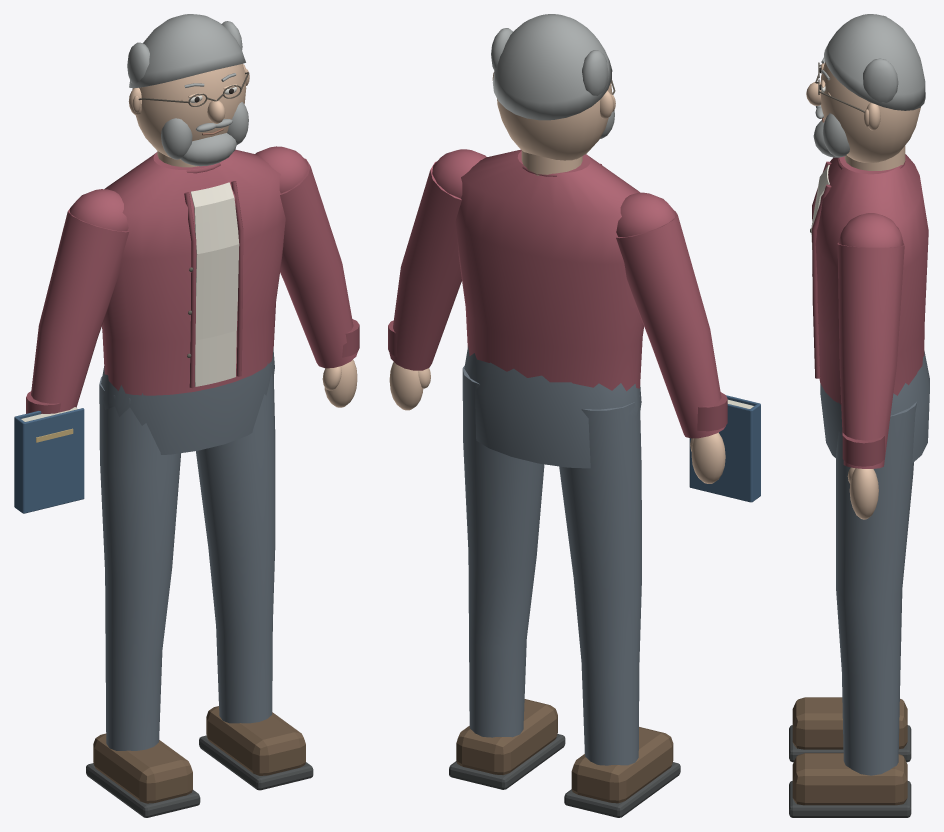
File: person_teacher.glb
3 renders of one model, left to right at view 1: azimuth 30°, elevation 25°; view 2: azimuth 150°, elevation 25°; view 3: azimuth 270°, elevation 25°, orthographic.
Parts seen in each view (by area): view 1: Teacher_Torso_And_Main_Clothes, Teacher_Trouser_Leg, Teacher_Trouser_Leg.001, Teacher_Long_Sleeve, Teacher_Long_Sleeve.001, Teacher_Visible_Cream_Top, Teacher_Connected_Hip_Garment, Teacher held book front cover, Teacher_Hair_Cap, Teacher_Head, Teacher_Shoe_Upper, Teacher_Shoe_Upper.001 (+11 smaller); view 2: Teacher_Torso_And_Main_Clothes, Teacher_Trouser_Leg, Teacher_Trouser_Leg.001, Teacher_Long_Sleeve, Teacher_Connected_Hip_Garment, Teacher_Long_Sleeve.001, Teacher_Hair_Cap, Teacher_Shoe_Upper, Teacher_Shoe_Upper.001, Teacher_Head, Teacher held book rear cover, Teacher_Rounded_Shoulder_Cloth (+9 smaller); view 3: Teacher_Trouser_Leg.001, Teacher_Torso_And_Main_Clothes, Teacher_Long_Sleeve.001, Teacher_Hair_Cap, Teacher_Shoe_Upper.001, Teacher_Head, Teacher_Shoe_Upper, Teacher_Connected_Hip_Garment, Teacher_Shoe_Sole.001, Teacher_Rounded_Shoulder_Cloth.001, Teacher_Mitten_Hand.001, Teacher_Grey_Side_Hair.001 (+9 smaller).
Boxes of the visible parts, x1,y1,x2,y2 form: Teacher_Torso_And_Main_Clothes: (102,149,285,395); Teacher_Trouser_Leg: (99,376,181,750); Teacher_Trouser_Leg.001: (196,364,275,723); Teacher_Long_Sleeve: (31,209,128,412); Teacher_Long_Sleeve.001: (280,158,357,368); Teacher_Visible_Cream_Top: (190,182,239,386); Teacher_Connected_Hip_Garment: (101,348,274,454); Teacher held book front cover: (23,408,84,513); Teacher_Hair_Cap: (129,14,245,88); Teacher_Head: (132,64,246,157); Teacher_Shoe_Upper: (93,733,192,803); Teacher_Shoe_Upper.001: (206,706,305,775); Teacher_Torso_And_Main_Clothes: (455,149,643,391); Teacher_Trouser_Leg: (559,396,641,765); Teacher_Trouser_Leg.001: (462,365,544,737); Teacher_Long_Sleeve: (616,211,725,438); Teacher_Connected_Hip_Garment: (464,346,641,468); Teacher_Long_Sleeve.001: (389,161,461,370); Teacher_Hair_Cap: (492,14,612,120); Teacher_Shoe_Upper: (571,727,673,803); Teacher_Shoe_Upper.001: (456,699,557,774); Teacher_Head: (497,82,612,160); Teacher held book rear cover: (689,404,751,502); Teacher_Rounded_Shoulder_Cloth: (616,192,675,236); Teacher_Trouser_Leg.001: (836,401,917,775); Teacher_Torso_And_Main_Clothes: (815,154,928,404); Teacher_Long_Sleeve.001: (837,242,904,468); Teacher_Hair_Cap: (824,14,925,110); Teacher_Shoe_Upper.001: (792,753,907,805); Teacher_Head: (820,62,920,162); Teacher_Shoe_Upper: (792,697,907,749); Teacher_Connected_Hip_Garment: (820,351,929,462); Teacher_Shoe_Sole.001: (789,781,911,817); Teacher_Rounded_Shoulder_Cloth.001: (838,213,903,247); Teacher_Mitten_Hand.001: (849,468,878,519); Teacher_Grey_Side_Hair.001: (863,58,898,102).
Bounding box in the file's own units: 0.8581 × 1.77 × 0.2972.
